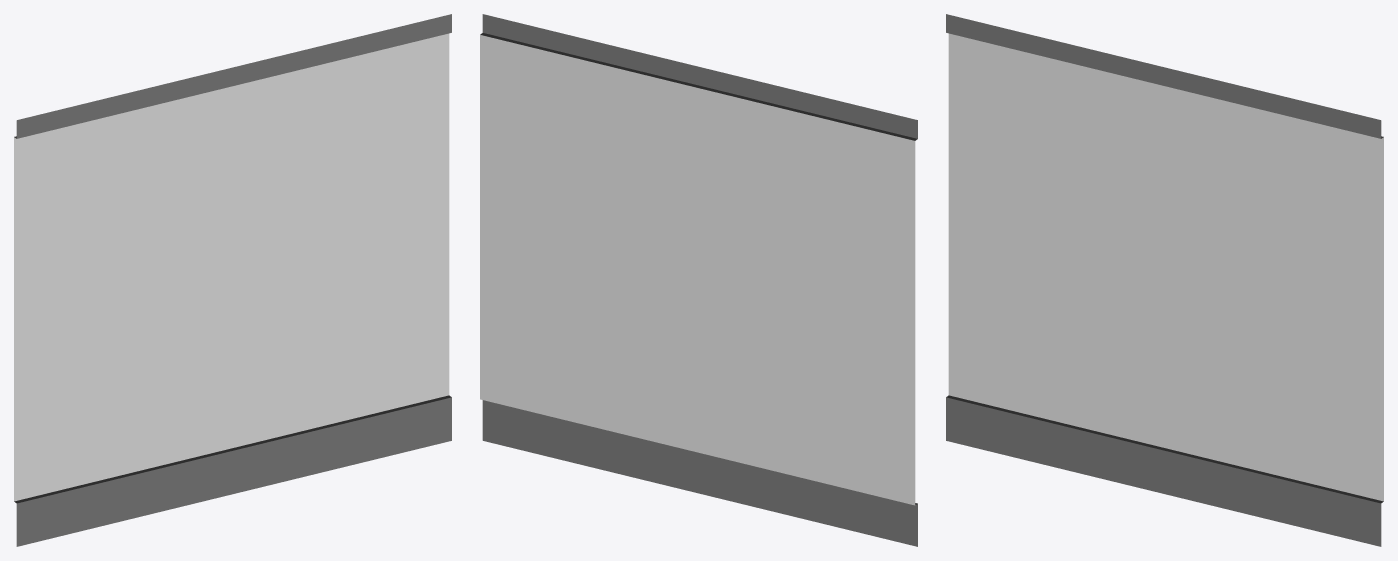
The model's file is Wall1.glb.
3 views of the same model, side by side, from view 1: azimuth 30°, elevation 25°; view 2: azimuth 150°, elevation 25°; view 3: azimuth 330°, elevation 25° (orthographic).
Parts seen in each view (by area): view 1: SI_Env_Wall_01; view 2: SI_Env_Wall_01; view 3: SI_Env_Wall_01.
Part boxes in pixels (<box>): SI_Env_Wall_01: <box>14,14,451,546</box>; SI_Env_Wall_01: <box>480,14,917,546</box>; SI_Env_Wall_01: <box>946,14,1383,546</box>.
Size of the model in its own units: 0.05 by 0.0469 by 0.000549.
Materials: 1 (1 with a texture image).
